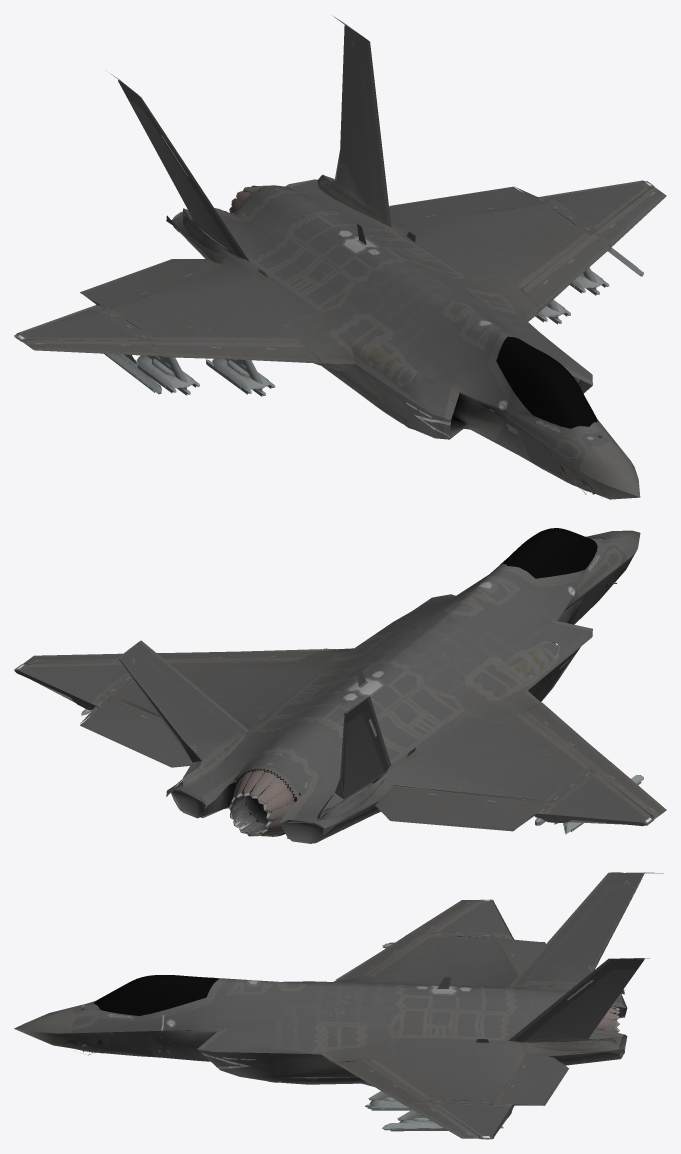
3 views of the same model, one above another, from view 1: azimuth 30°, elevation 25°; view 2: azimuth 150°, elevation 25°; view 3: azimuth 270°, elevation 25° (orthographic). The views are drawn at different scales.
Parts seen in each view (by area): view 1: f35c-airframe, f35c-canopy, f35c-spw3-8agm-rail, f35c-refuelOff; view 2: f35c-airframe, f35c-canopy, f35c-refuelOff; view 3: f35c-airframe, f35c-canopy, f35c-spw3-8agm-rail.
Part boxes in pixels (bbox=[...]): f35c-airframe: bbox=[14, 16, 666, 499]; f35c-canopy: bbox=[496, 336, 597, 428]; f35c-spw3-8agm-rail: bbox=[134, 267, 609, 396]; f35c-refuelOff: bbox=[508, 412, 578, 459]; f35c-airframe: bbox=[14, 530, 666, 843]; f35c-canopy: bbox=[500, 528, 597, 578]; f35c-refuelOff: bbox=[578, 550, 620, 593]; f35c-airframe: bbox=[14, 872, 663, 1139]; f35c-canopy: bbox=[94, 975, 218, 1015]; f35c-spw3-8agm-rail: bbox=[365, 1091, 447, 1130].
Size of the model in its own units: 13.23 by 4.55 by 15.29.
4 materials, 2 textured.
